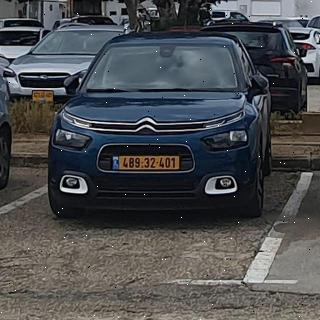LicensePlate: (121, 156, 180, 168)
